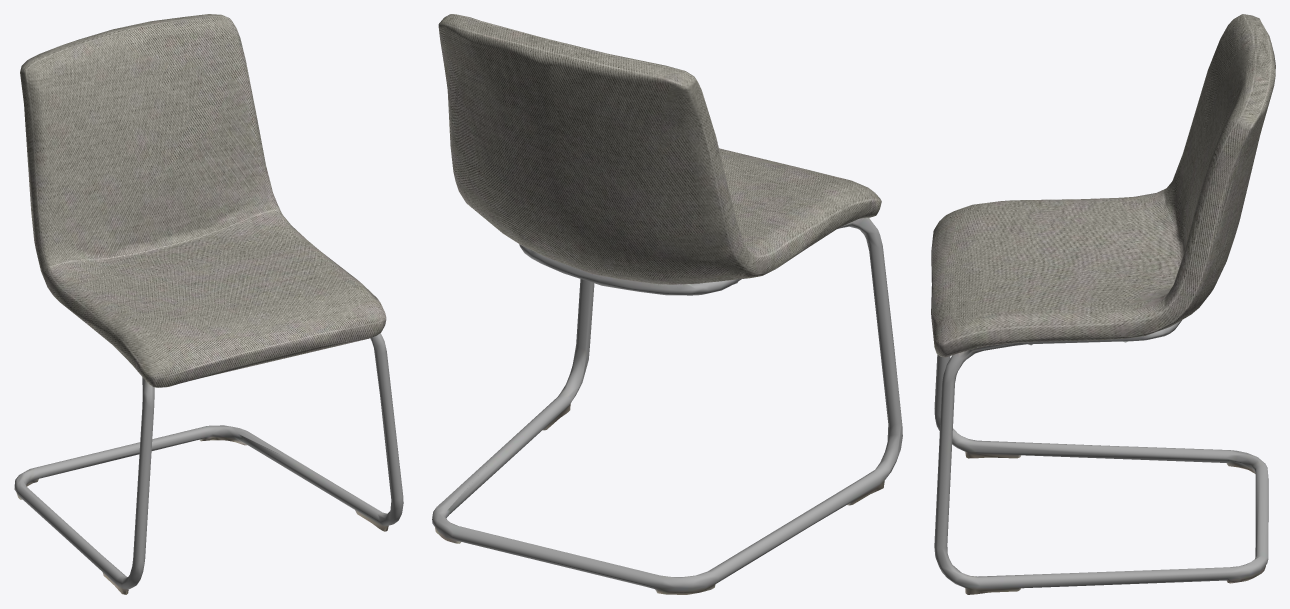
The model's file is 70541165-mini.glb.
The picture shows the model from 3 angles, left to right: view 1: azimuth 30°, elevation 25°; view 2: azimuth 150°, elevation 25°; view 3: azimuth 270°, elevation 25°; orthographic projection. The views are drawn at different scales.
Visible parts, largest first — view 1: model; view 2: model; view 3: model.
Part boxes in pixels (<box>): model: <box>14,14,403,594</box>; model: <box>432,14,902,594</box>; model: <box>931,14,1275,594</box>.
Bounding box in the file's own units: 0.5464 × 0.8353 × 0.5594.
Materials: 2 (2 with a texture image).
